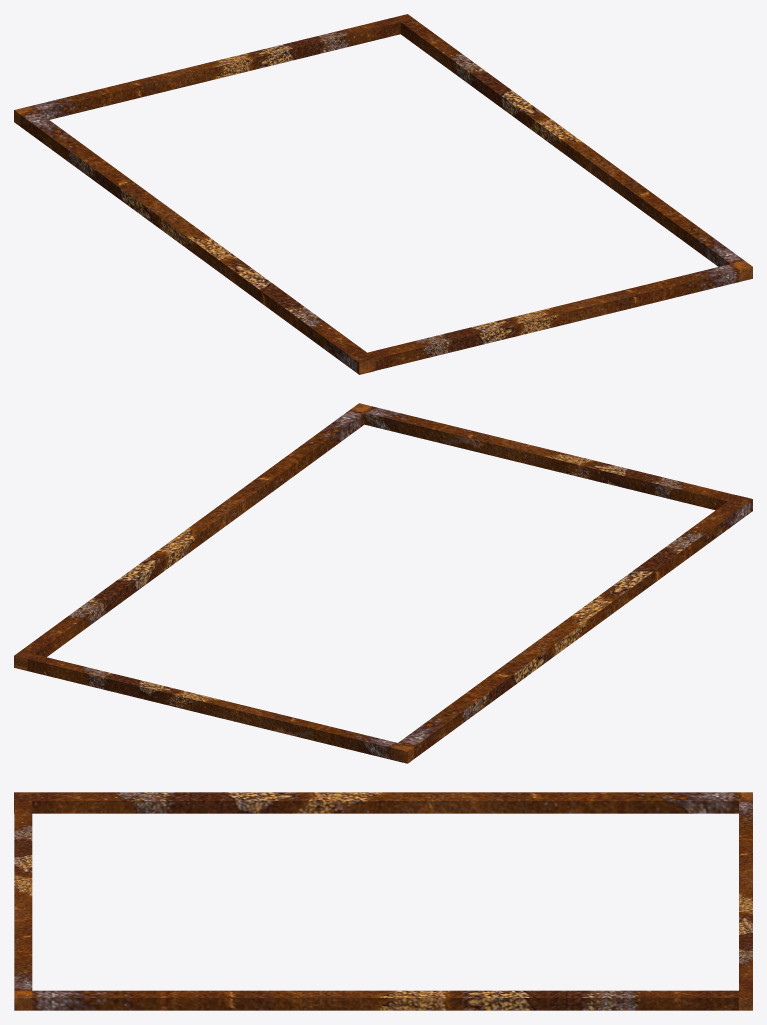
File: FierroGrande2.fbx
The picture shows the model from 3 angles, top to bottom: view 1: azimuth 30°, elevation 25°; view 2: azimuth 150°, elevation 25°; view 3: azimuth 270°, elevation 25°; orthographic projection. The views are drawn at different scales.
Visible parts, largest first — view 1: Escombro Grande; view 2: Escombro Grande; view 3: Escombro Grande.
Boxes of the visible parts, left/top/right/bottom form: Escombro Grande: left=14, top=14, right=752, bottom=374; Escombro Grande: left=14, top=403, right=752, bottom=763; Escombro Grande: left=14, top=792, right=752, bottom=1010.
Bounding box in the file's own units: 1165 × 33.94 × 1771.
